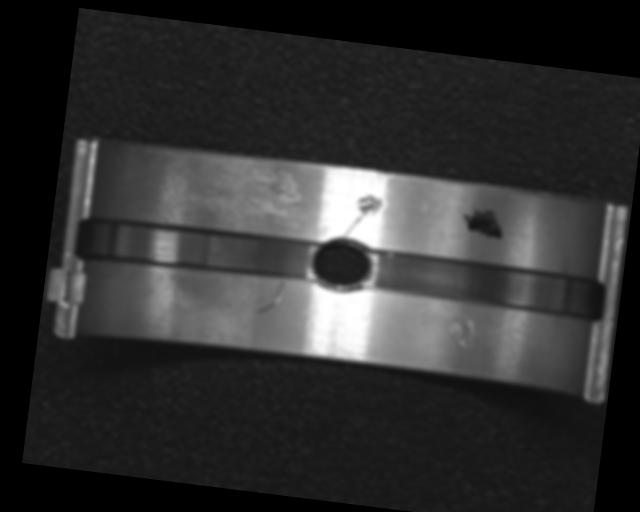blot: (460, 207, 506, 240)
bruise: (444, 314, 478, 354), (352, 194, 385, 218)
gap: (75, 211, 317, 289), (364, 246, 606, 324)
hole: (307, 231, 376, 297)
nick: (255, 278, 285, 316), (340, 208, 368, 242)
scratch: (182, 160, 304, 231)
